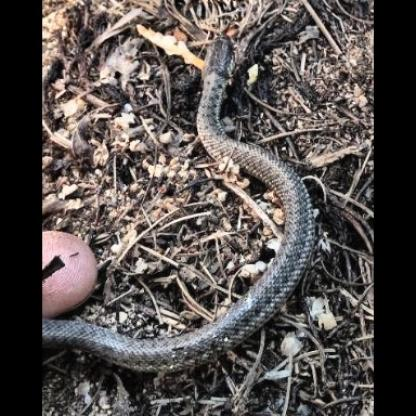Snake: (137, 30, 323, 369)
